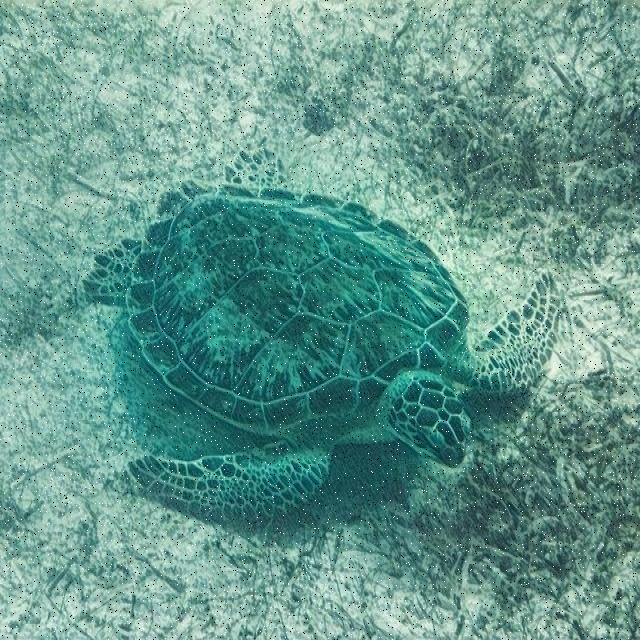reefs: (81, 147, 560, 524)
